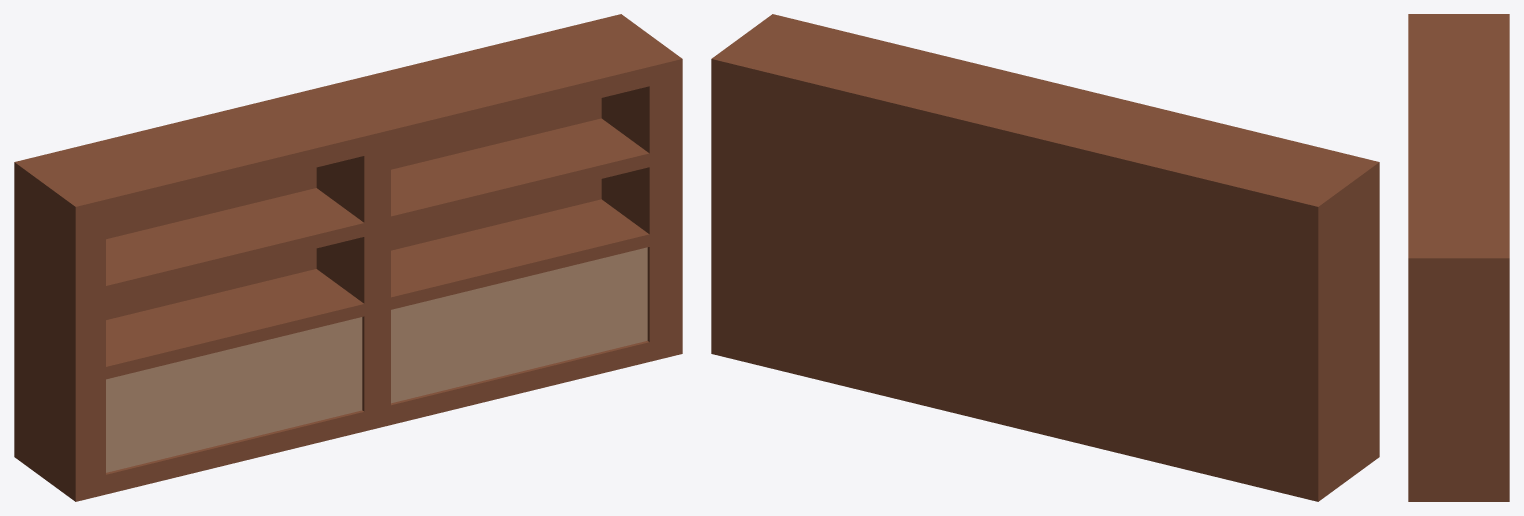
The model's file is storage_v03.fbx.
3 views of the same model, side by side, from view 1: azimuth 30°, elevation 25°; view 2: azimuth 150°, elevation 25°; view 3: azimuth 270°, elevation 25° (orthographic). The views are drawn at different scales.
Visible parts, largest first — view 1: pCube19; view 2: pCube19; view 3: pCube19.
Boxes of the visible parts, x1,y1,x2,y2 form: pCube19: [14, 14, 682, 501]; pCube19: [711, 14, 1379, 501]; pCube19: [1408, 14, 1509, 501].
Size of the model in its own units: 545 by 253 by 95.42.
